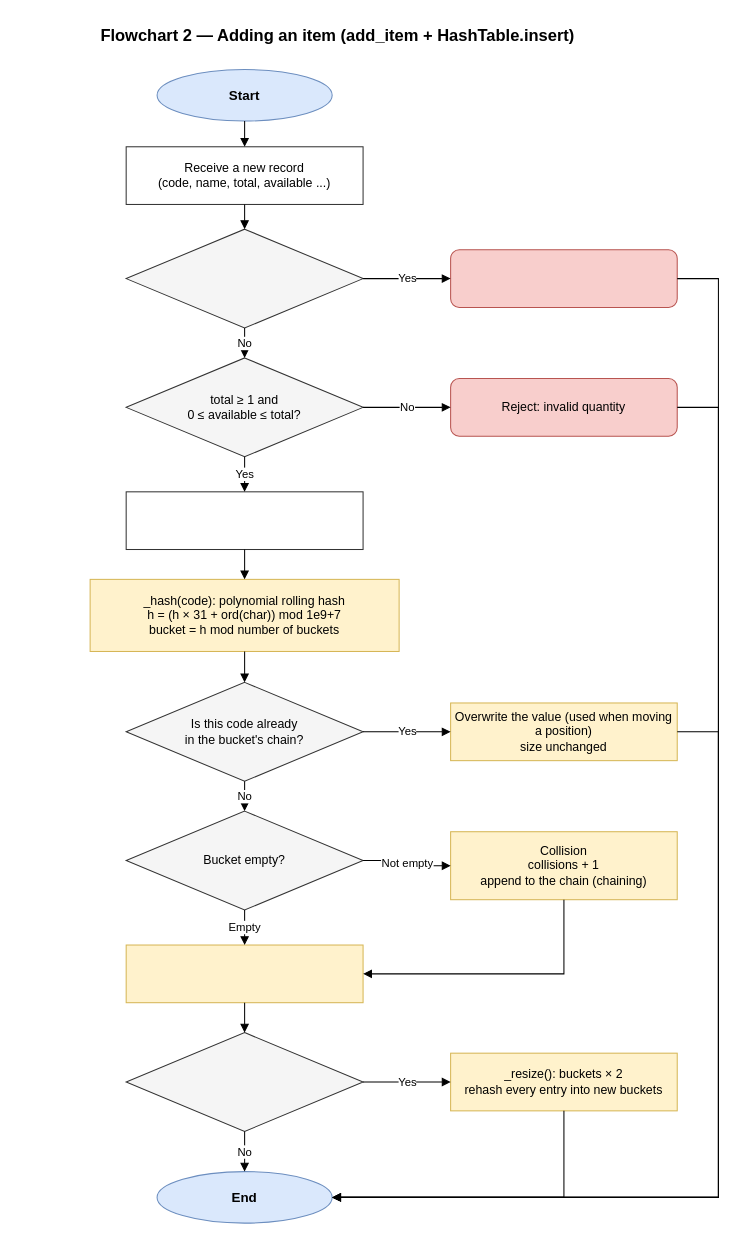
Some shapes in this 745 by 1241 pixel diagram are drawn without their labels. Here are the shapes that lost their labels. From the top down, the box of each, then its label:
(125, 228, 363, 328): index.get(code) code already exists?
(450, 249, 677, 307): Reject: duplicate code
(125, 491, 363, 550): Fill missing fields to all 8 items.append(record)
(125, 944, 363, 1003): Put (code, position) in the bucket size + 1
(125, 1032, 363, 1131): load factor = size ÷ buckets > 0.7?
